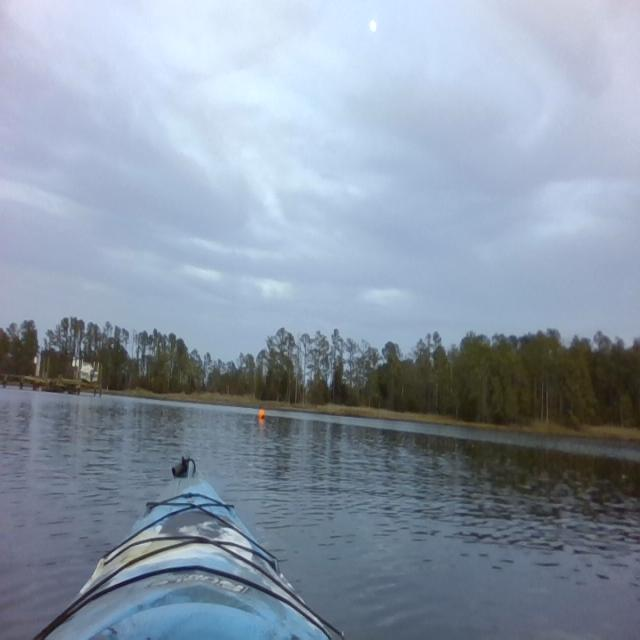Buoy: (257, 407, 267, 423)
